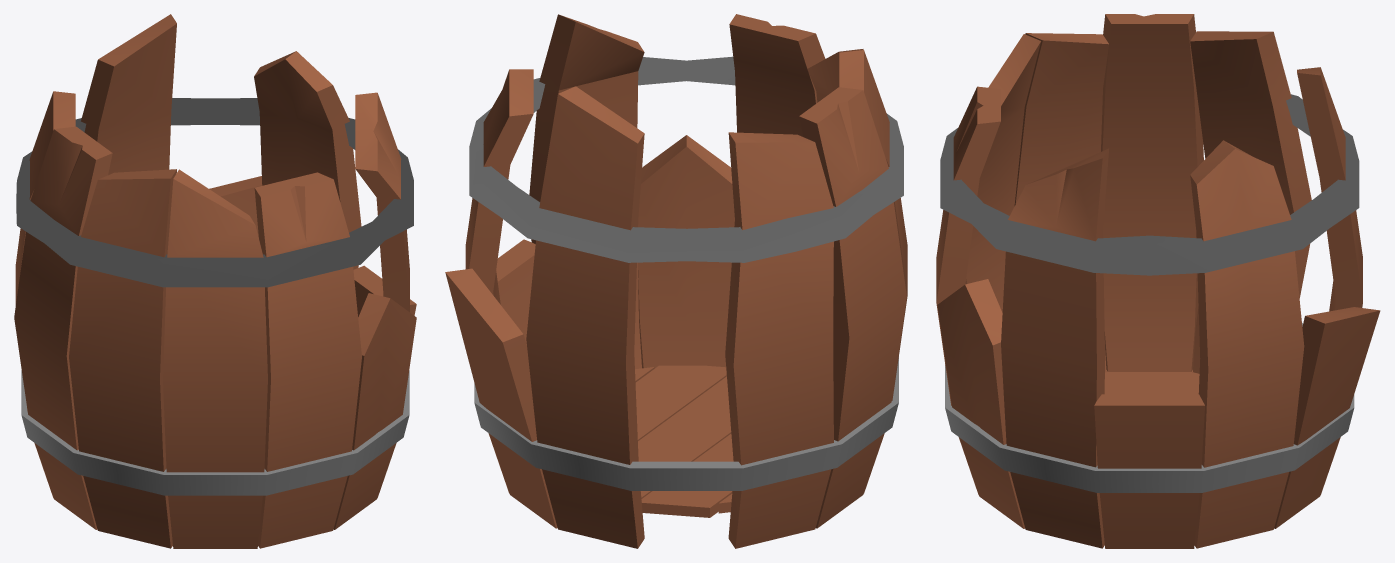
Rendered from Barrel.glb.
3 views of the same model, side by side, from view 1: azimuth 30°, elevation 25°; view 2: azimuth 150°, elevation 25°; view 3: azimuth 270°, elevation 25° (orthographic). The views are drawn at different scales.
Parts seen in each view (by area): view 1: Barrel_04_LOD0; view 2: Barrel_04_LOD0; view 3: Barrel_04_LOD0.
Part boxes in pixels (x1,y1,x2,y2): Barrel_04_LOD0: [14, 14, 416, 548]; Barrel_04_LOD0: [445, 14, 907, 548]; Barrel_04_LOD0: [936, 14, 1380, 548].
Bounding box in the file's own units: 3.73 × 4.06 × 3.89.
